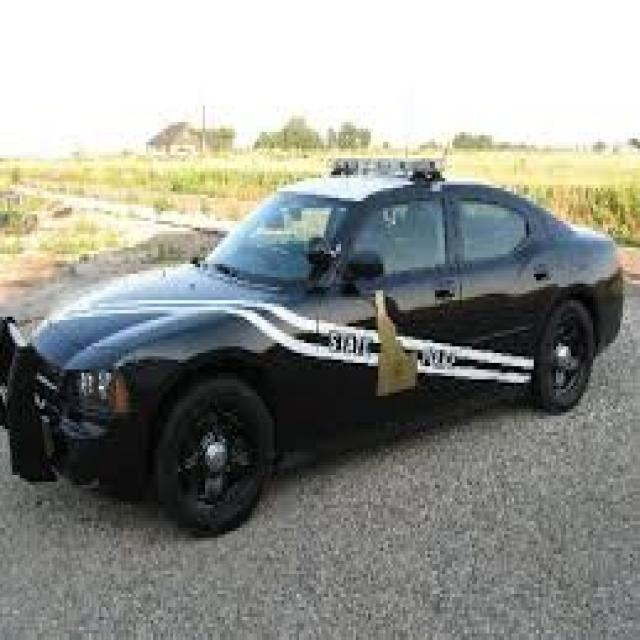cop: (0, 155, 622, 537)
